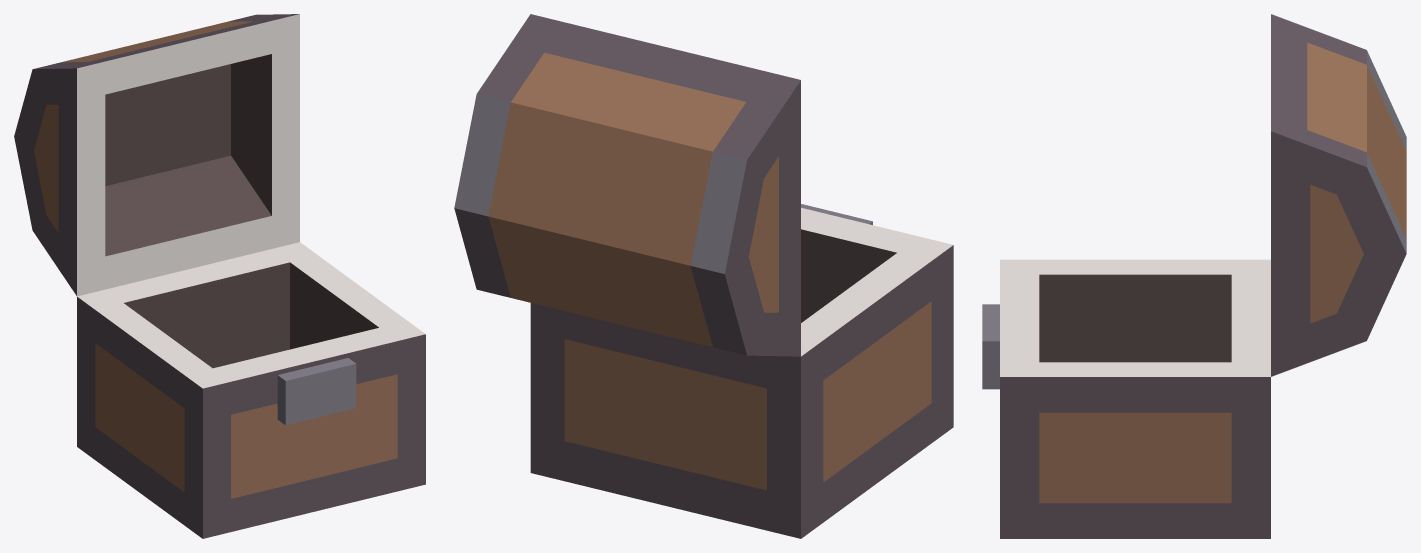
File: TB_Prop_Chest_Small_Open_B.FBX
The picture shows the model from 3 angles, left to right: view 1: azimuth 30°, elevation 25°; view 2: azimuth 150°, elevation 25°; view 3: azimuth 270°, elevation 25°; orthographic projection. The views are drawn at different scales.
Visible parts, largest first — view 1: TB_Prop_Chest_Small_Open_B; view 2: TB_Prop_Chest_Small_Open_B; view 3: TB_Prop_Chest_Small_Open_B.
Part boxes in pixels (box(x1,y1,x2,y2)): TB_Prop_Chest_Small_Open_B: box(14, 14, 425, 538); TB_Prop_Chest_Small_Open_B: box(454, 14, 953, 538); TB_Prop_Chest_Small_Open_B: box(982, 14, 1406, 538).
Bounding box in the file's own units: 0.6125 × 0.9932 × 0.9365.
